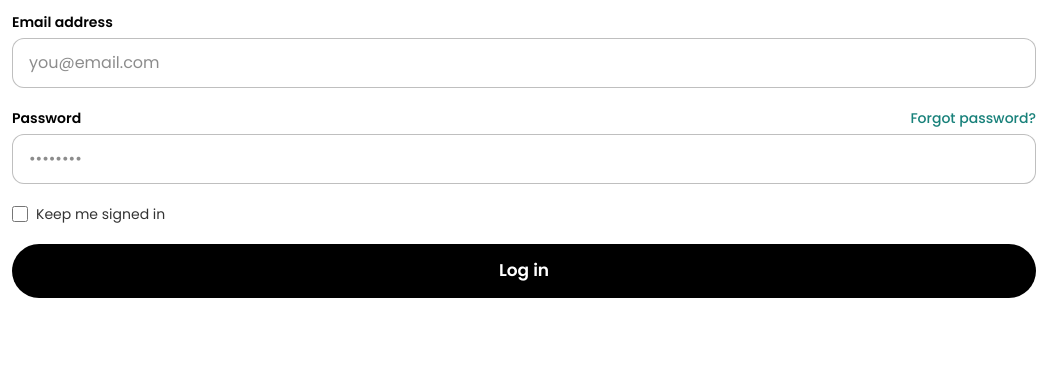
Scenario: LoginForm › shows the 'accounts aren't live yet' notice on submit
The width and height of the screenshot is (1048, 383).
Type "a@b.com" into the field labelled "Email address". click: (524, 63)
box: top-left (12, 38), bottom-right (1036, 88)
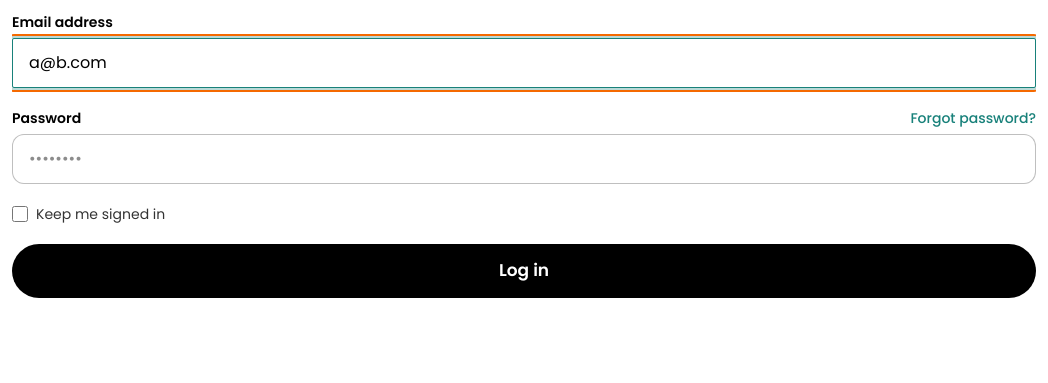
Type "secret123" into the password field labelled "Password". click: (524, 159)
box: top-left (12, 134), bottom-right (1036, 184)
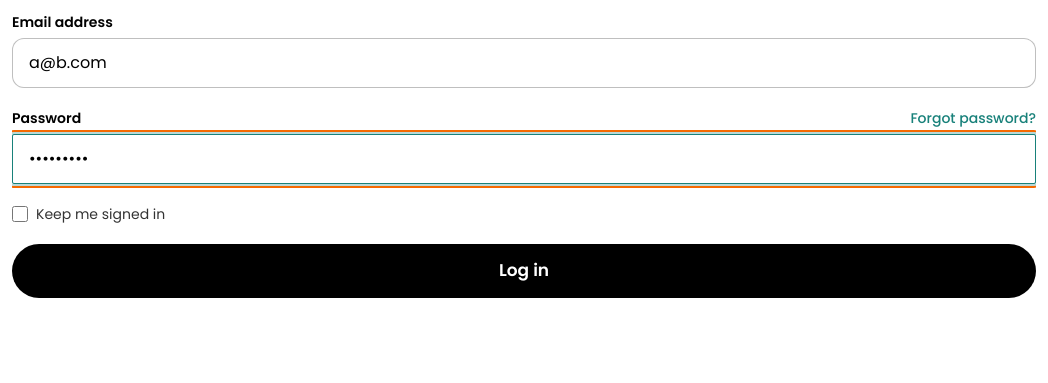
Click the button "Log in". click: click(524, 271)
box: top-left (12, 244), bottom-right (1036, 298)
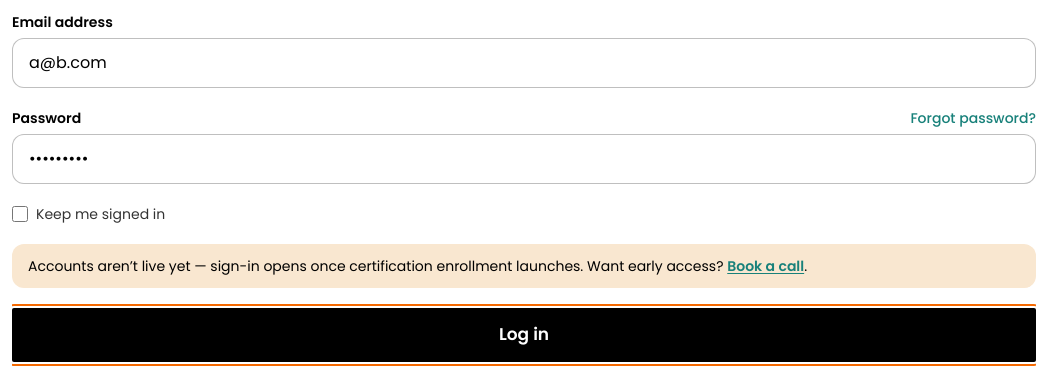
Expected: the text "accounts aren.t live yet" is shown, top-left (28, 256), bottom-right (724, 276)
